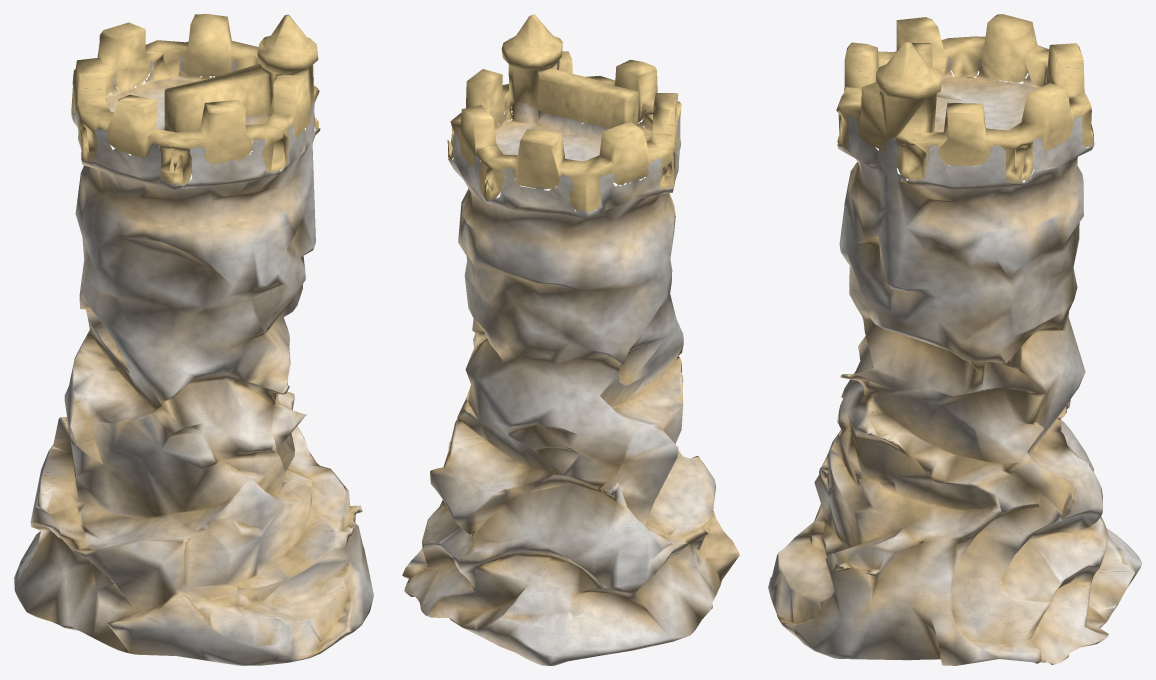
File: rook-white.glb
The picture shows the model from 3 angles, left to right: view 1: azimuth 30°, elevation 25°; view 2: azimuth 150°, elevation 25°; view 3: azimuth 270°, elevation 25°; orthographic projection. The views are drawn at different scales.
Parts seen in each view (by area): view 1: Argent Reliquary – White Rook; view 2: Argent Reliquary – White Rook; view 3: Argent Reliquary – White Rook.
Boxes of the visible parts, <box> form: Argent Reliquary – White Rook: <box>14,14,373,665</box>; Argent Reliquary – White Rook: <box>402,14,739,665</box>; Argent Reliquary – White Rook: <box>768,14,1141,665</box>.
Size of the model in its own units: 0.6223 by 1.17 by 0.6577.
2 materials, 2 textured.
